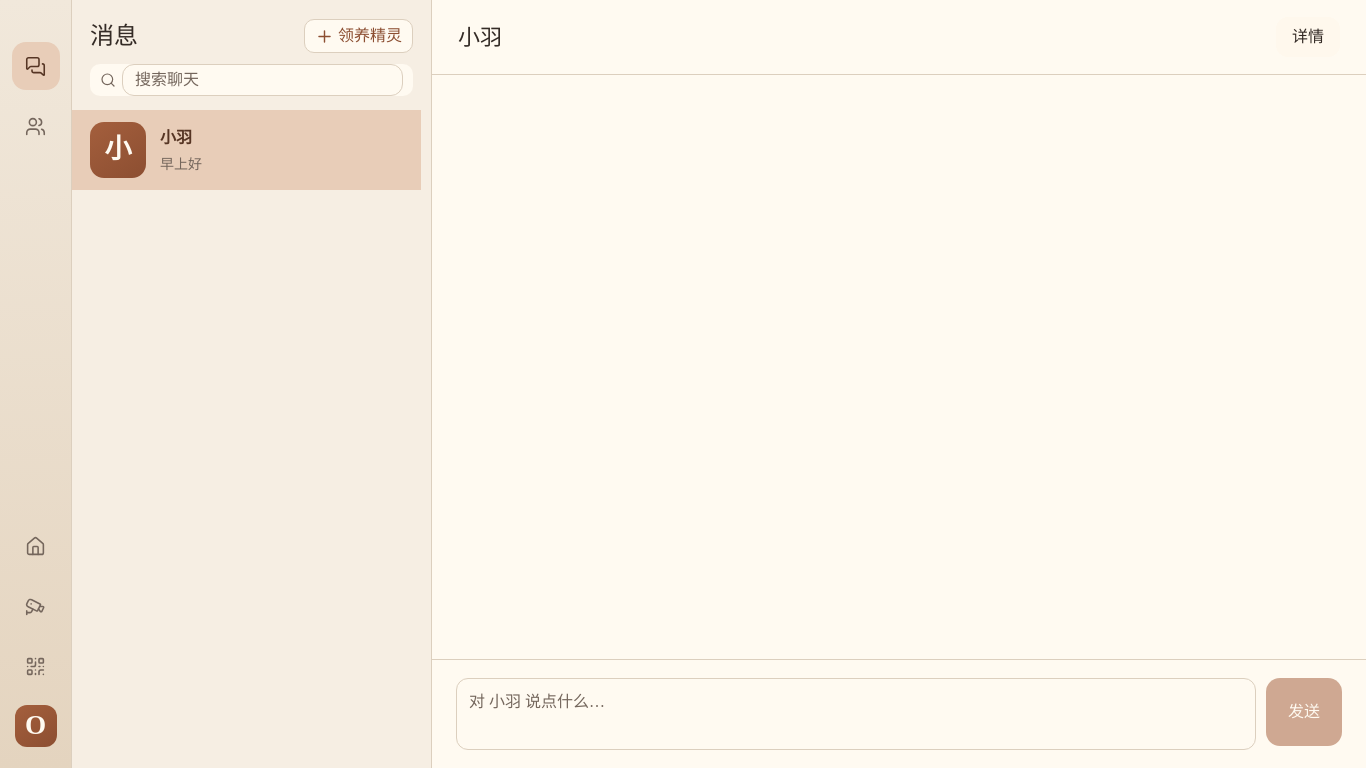
Test case: ChatPage list pane headings › keeps a WebSocket-submitted user message visible until the delayed history echo arrives
The image size is (1366, 768).
Type "WebSocket 用户消息" into the text box with placeholder "对 小羽 说点什么…" at (856, 714), box [456, 678, 1256, 750]
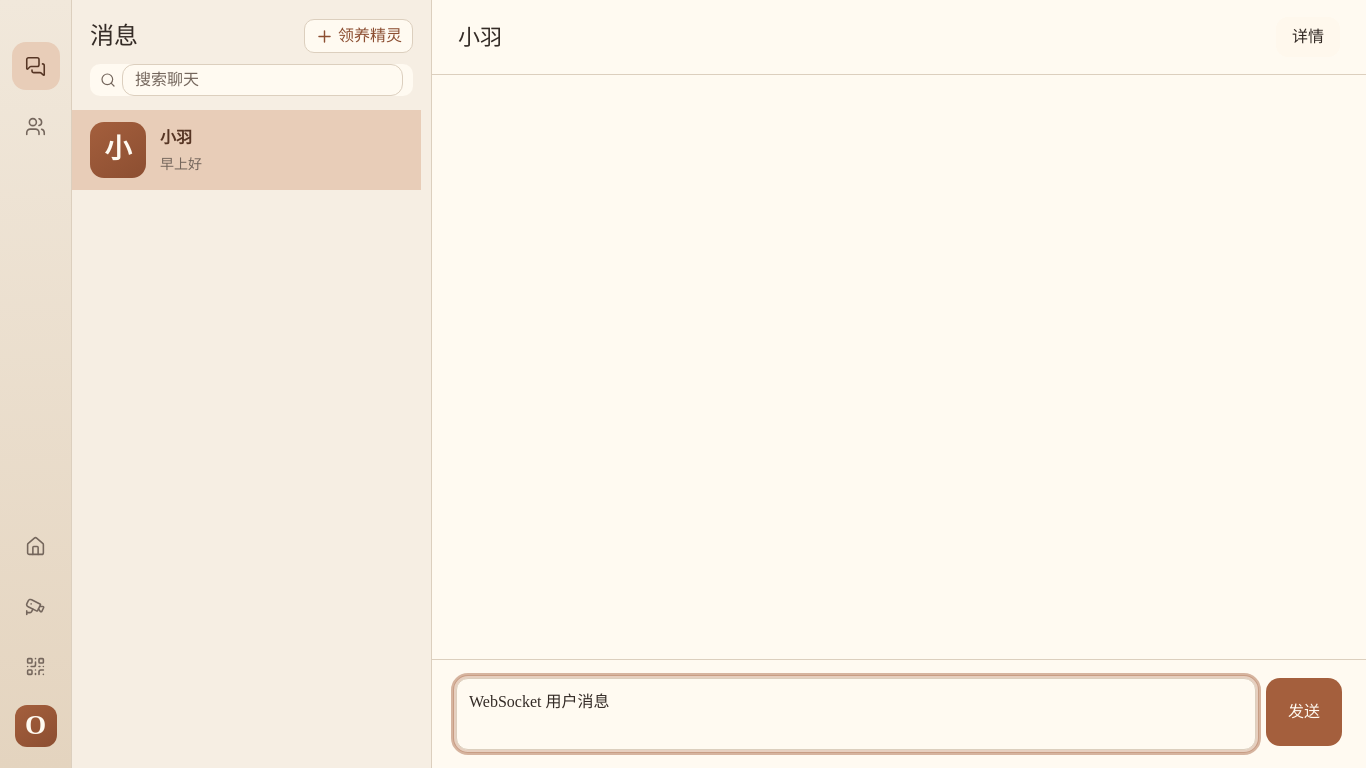
Click the button "发送" at (1304, 712), box [1266, 678, 1342, 746]
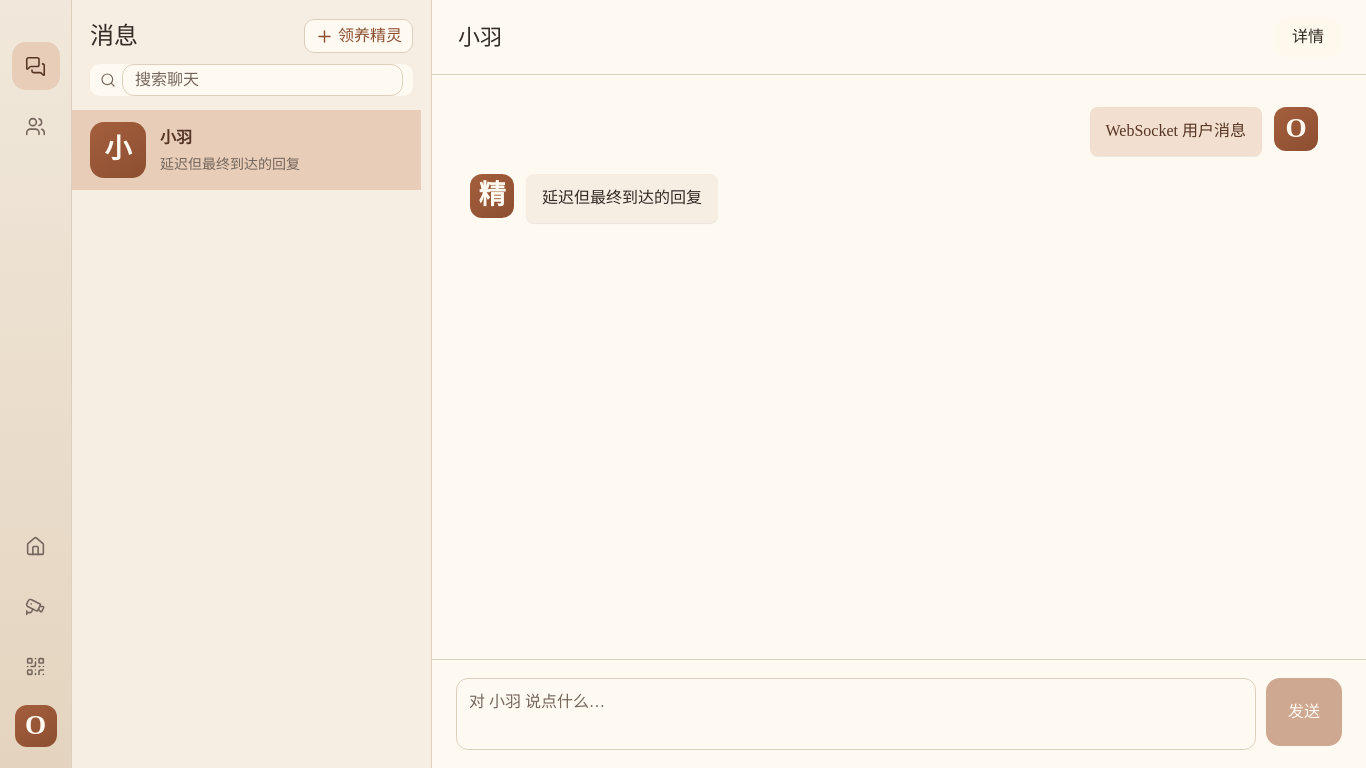
expect the text "延迟但最终到达的回复" is shown 2 times: met, box [160, 154, 300, 174]; [526, 174, 718, 223]
expect the text "WebSocket 用户消息" is shown: met, box [1090, 107, 1262, 156]
expect the text box with placeholder "对 小羽 说点什么…" is empty: met, box [456, 678, 1256, 750]
